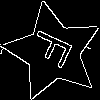F: (28, 27, 83, 74)
